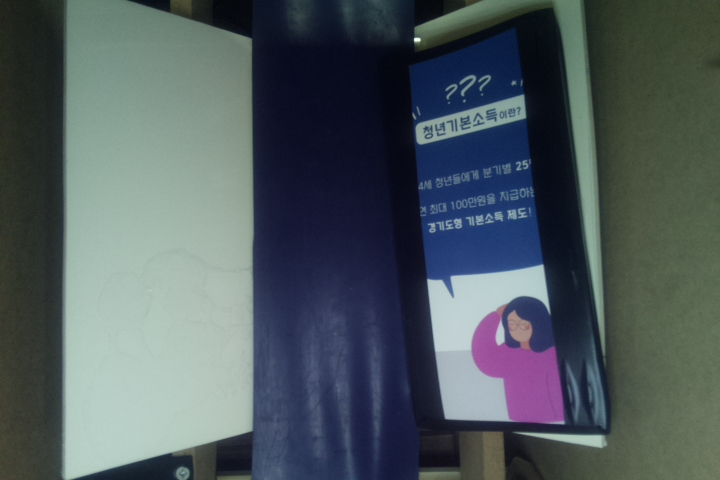book: (388, 5, 613, 434)
